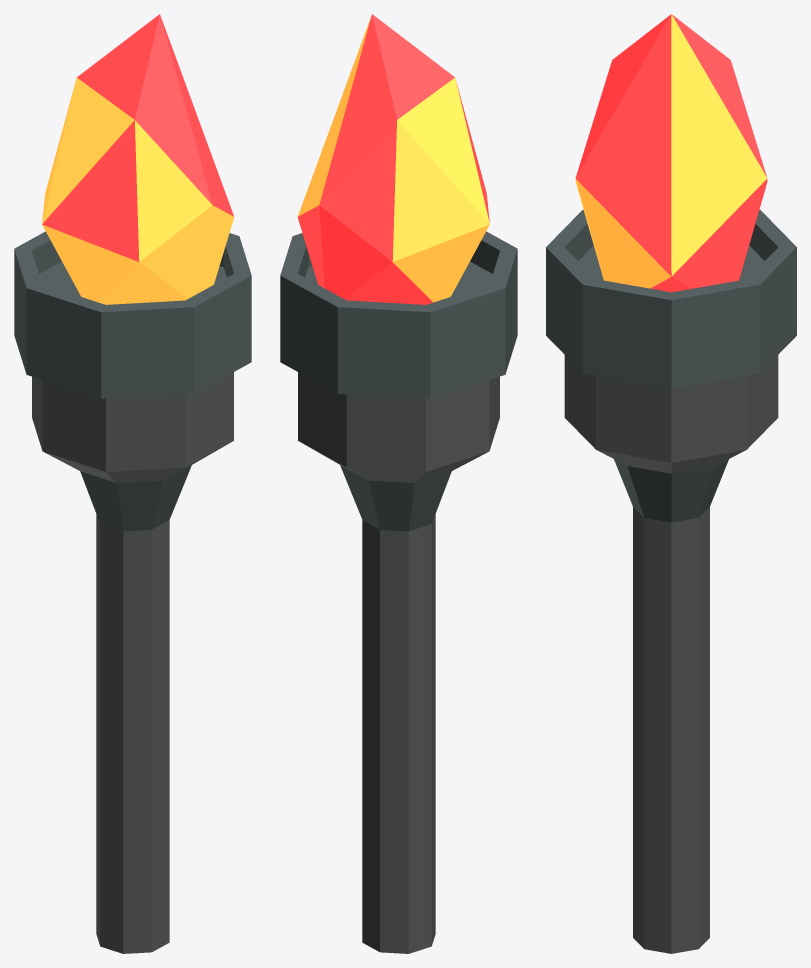
Rendered from Torch_5_Gray.fbx.
3 views of the same model, side by side, from view 1: azimuth 30°, elevation 25°; view 2: azimuth 150°, elevation 25°; view 3: azimuth 270°, elevation 25° (orthographic). The views are drawn at different scales.
Visible parts, largest first — view 1: Torch_5_Gray_Part_1, Torch_5_Gray_Part_2, Torch_5_Gray_Part_4, Torch_5_Gray_Part_3; view 2: Torch_5_Gray_Part_1, Torch_5_Gray_Part_2, Torch_5_Gray_Part_3, Torch_5_Gray_Part_4; view 3: Torch_5_Gray_Part_1, Torch_5_Gray_Part_2, Torch_5_Gray_Part_3, Torch_5_Gray_Part_4.
Boxes of the visible parts, <box> form: Torch_5_Gray_Part_1: <box>32,372,233,953</box>; Torch_5_Gray_Part_2: <box>14,231,251,531</box>; Torch_5_Gray_Part_4: <box>42,78,234,304</box>; Torch_5_Gray_Part_3: <box>42,14,234,261</box>; Torch_5_Gray_Part_1: <box>298,372,499,953</box>; Torch_5_Gray_Part_2: <box>280,231,517,531</box>; Torch_5_Gray_Part_3: <box>297,14,489,304</box>; Torch_5_Gray_Part_4: <box>297,16,489,302</box>; Torch_5_Gray_Part_1: <box>564,355,778,953</box>; Torch_5_Gray_Part_2: <box>546,209,796,522</box>; Torch_5_Gray_Part_3: <box>575,14,767,292</box>; Torch_5_Gray_Part_4: <box>575,14,767,288</box>.
Size of the model in its own units: 13.01 by 53.59 by 13.01.
